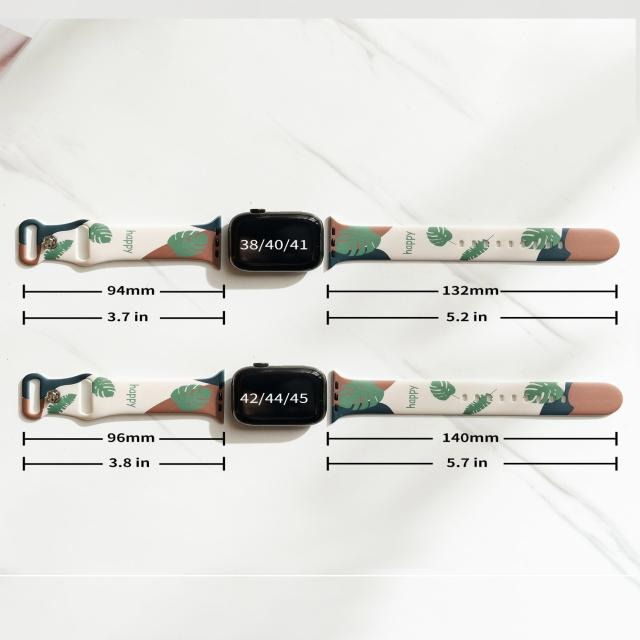bracelet: (0, 160, 640, 345), (3, 336, 640, 473)
